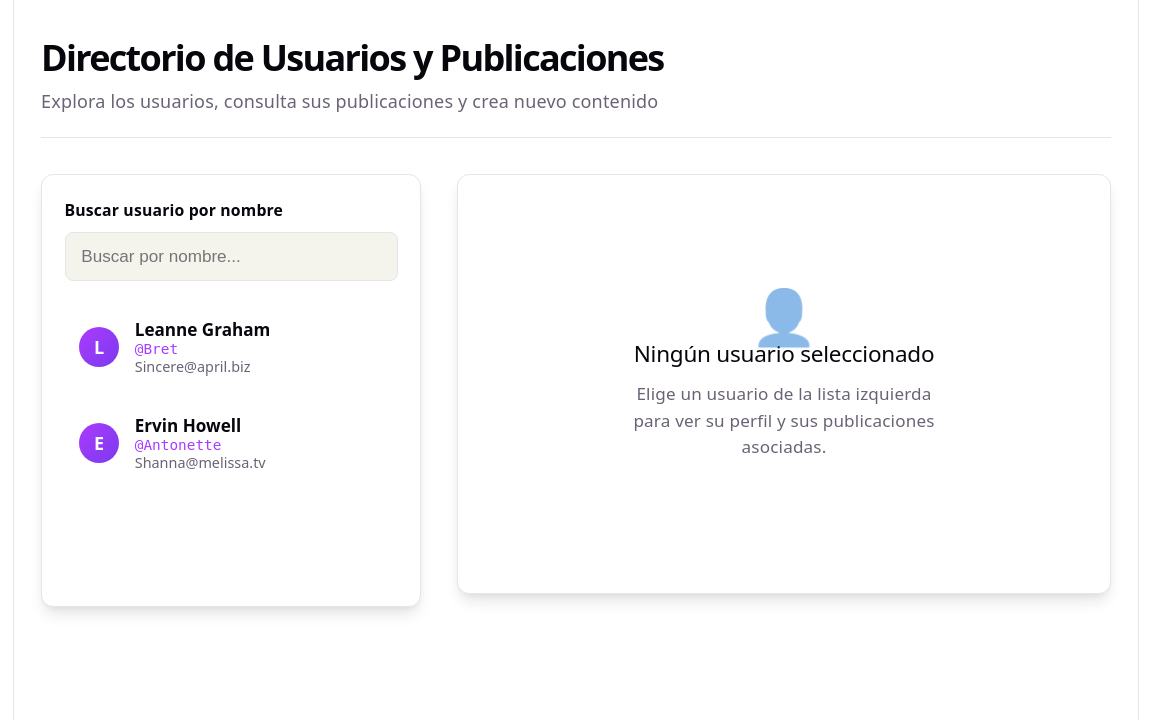
Test: App component (Integration) › permite seleccionar un usuario y muestra el detalle preliminar en la columna derecha
Expected: the text "Leanne Graham" is shown, [135,318,270,341]
Expected: the heading "Ningún usuario seleccionado" is shown, [634,341,934,368]
Selecciona el primer usuario
Click the button "L Leanne Graham @Bret Sincere@april.biz" at (99, 347), box [64,304,393,391]
(page scrolled)
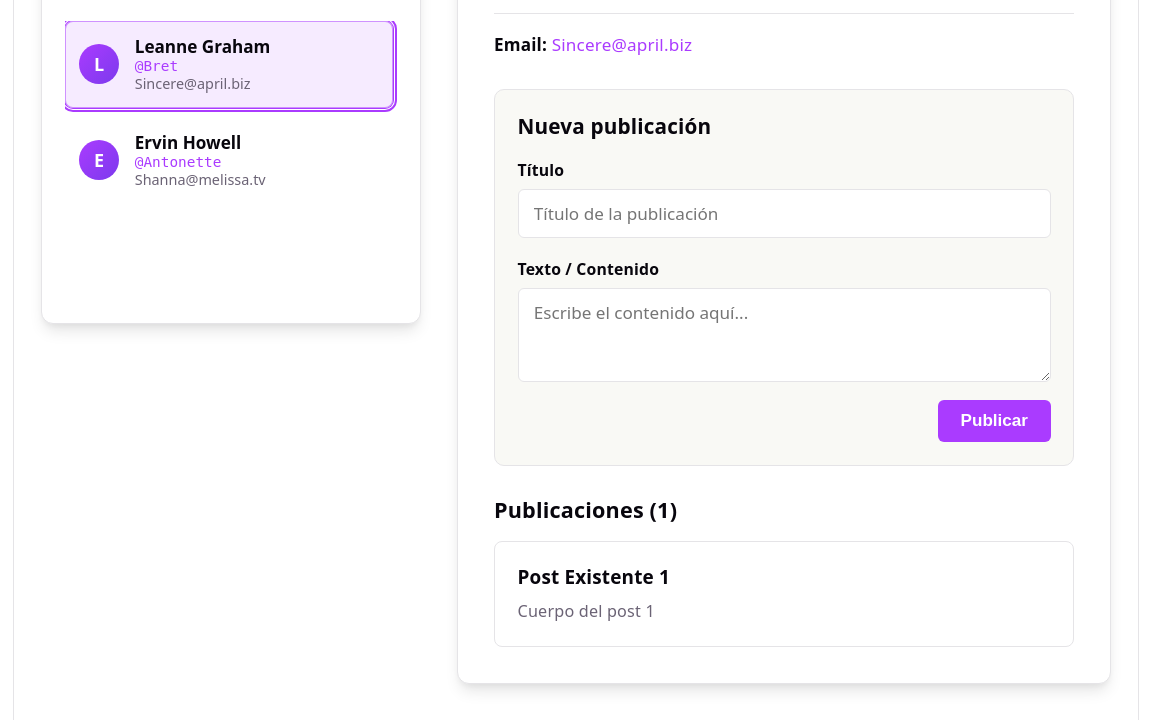
Result: the link "Sincere@april.biz" is shown at [552,33,692,56]
Result: the heading "Post Existente 1" is shown at [518,564,670,590]
